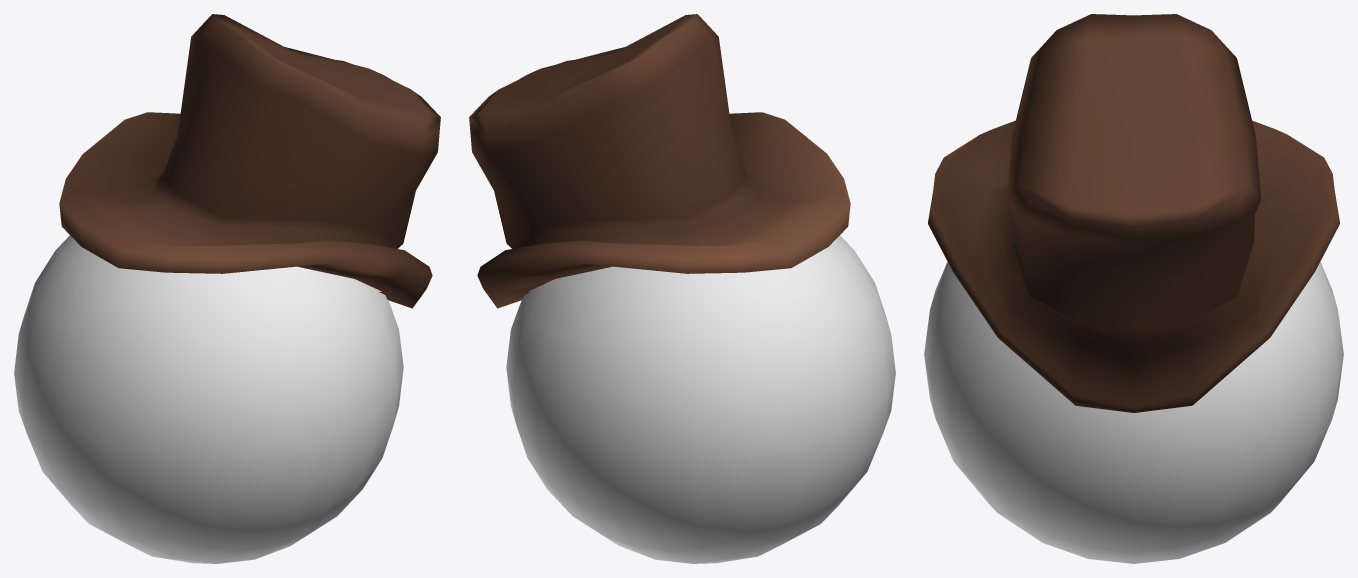
Rendered from buddy.fbx.
The picture shows the model from 3 angles, left to right: view 1: azimuth 30°, elevation 25°; view 2: azimuth 150°, elevation 25°; view 3: azimuth 270°, elevation 25°; orthographic projection. The views are drawn at different scales.
Visible parts, largest first — view 1: buddyHead, buddyHat; view 2: buddyHead, buddyHat; view 3: buddyHat, buddyHead.
Part boxes in pixels (left/top/right/bottom): buddyHead: left=14, top=235, right=403, bottom=563; buddyHat: left=59, top=14, right=440, bottom=308; buddyHead: left=506, top=235, right=895, bottom=563; buddyHat: left=469, top=14, right=850, bottom=308; buddyHat: left=928, top=14, right=1339, bottom=412; buddyHead: left=924, top=262, right=1343, bottom=563.
Size of the model in its own units: 147 by 186 by 130.
